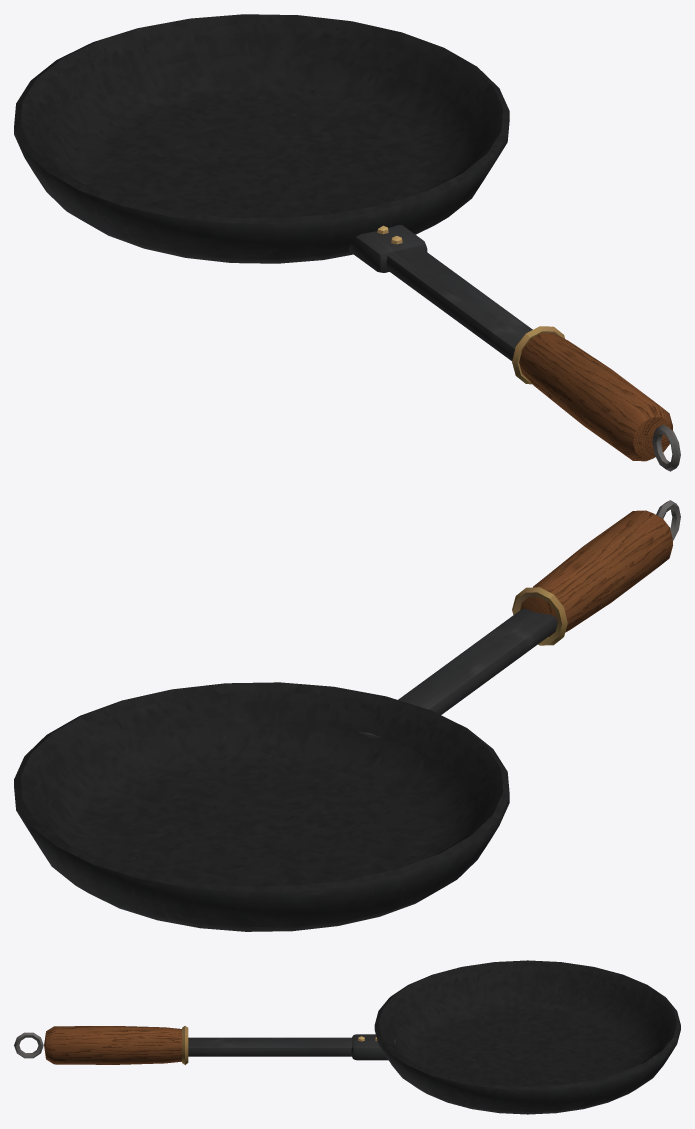
The model's file is pan.glb.
3 renders of one model, top to bottom at view 1: azimuth 30°, elevation 25°; view 2: azimuth 150°, elevation 25°; view 3: azimuth 270°, elevation 25°, orthographic. The views are drawn at different scales.
Visible parts, largest first — view 1: pan; view 2: pan; view 3: pan.
Part boxes in pixels (x1,y1,x2,y2): pan: [14, 14, 680, 471]; pan: [14, 500, 680, 931]; pan: [14, 960, 680, 1114].
Bounding box in the file's own units: 0.304 × 0.0437 × 0.6618.
5 materials, 5 textured.
